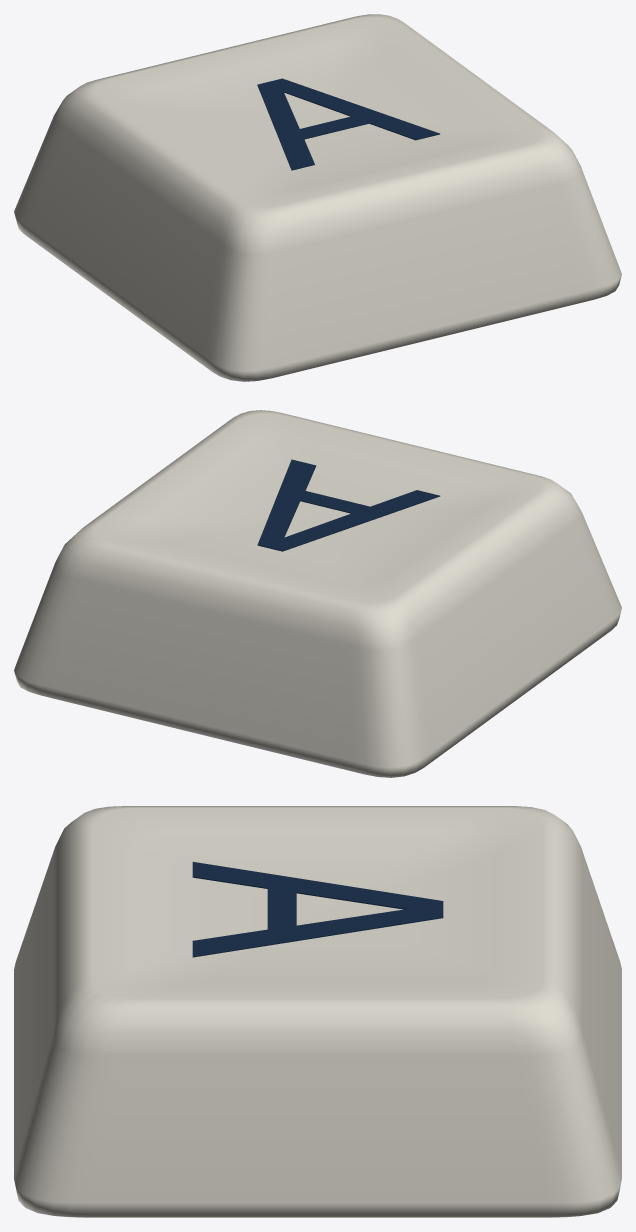
The model's file is aini-keycap.glb.
The picture shows the model from 3 angles, top to bottom: view 1: azimuth 30°, elevation 25°; view 2: azimuth 150°, elevation 25°; view 3: azimuth 270°, elevation 25°; orthographic projection. The views are drawn at different scales.
Parts seen in each view (by area): view 1: Ivory_Shell, Legend_A; view 2: Ivory_Shell, Legend_A; view 3: Ivory_Shell, Legend_A.
Boxes of the visible parts, x1,y1,x2,y2 form: Ivory_Shell: (14,14,621,381); Legend_A: (257,78,439,170); Ivory_Shell: (14,410,621,777); Legend_A: (257,459,440,551); Ivory_Shell: (14,806,621,1217); Legend_A: (192,862,443,957).
Size of what is drawn, in the model's own units: 2.16 by 1 by 2.16.
